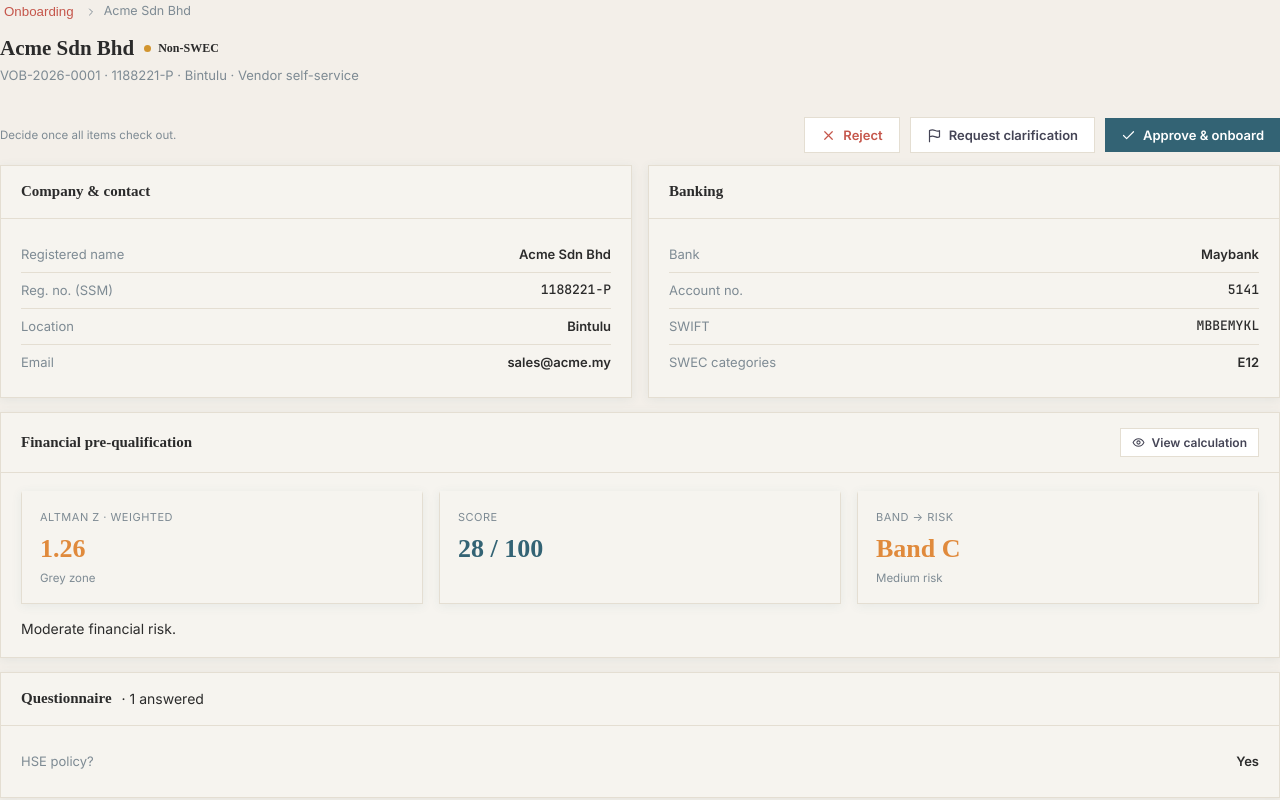
Test: Onboarding queue + review (Slice D) › review shows the financial band + calc drawer; approve promotes and shows the vendor code
Expected: the heading "Financial pre-qualification" is shown, [21,432,192,454]
Expected: the text "Band C" is shown, [876,534,960,563]
// calc drawer
Click the button "View calculation".
click(1189, 443)  # box [1120,428,1259,457]
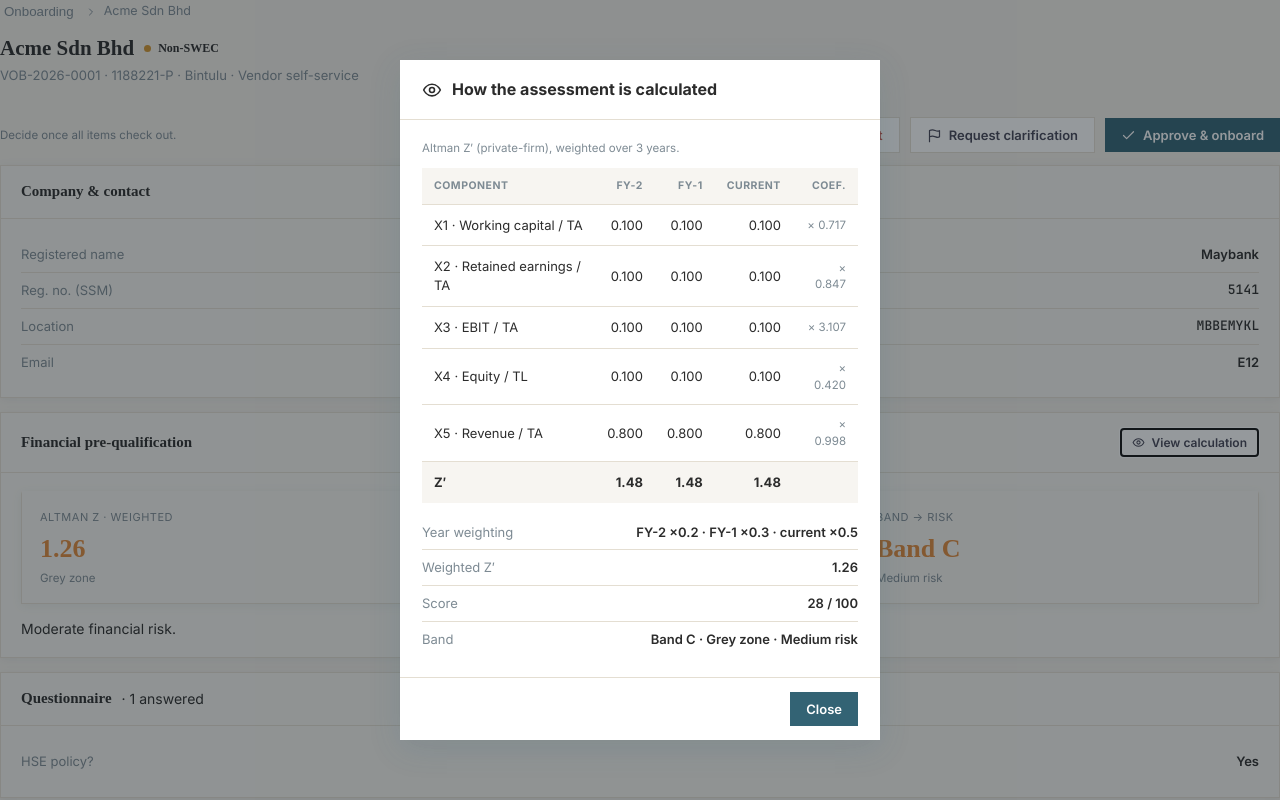
Expected: the text "X1 · Working capital / TA" is shown, [422,204,595,246]
Click the button "Close".
click(824, 709)  # box [790,692,858,726]
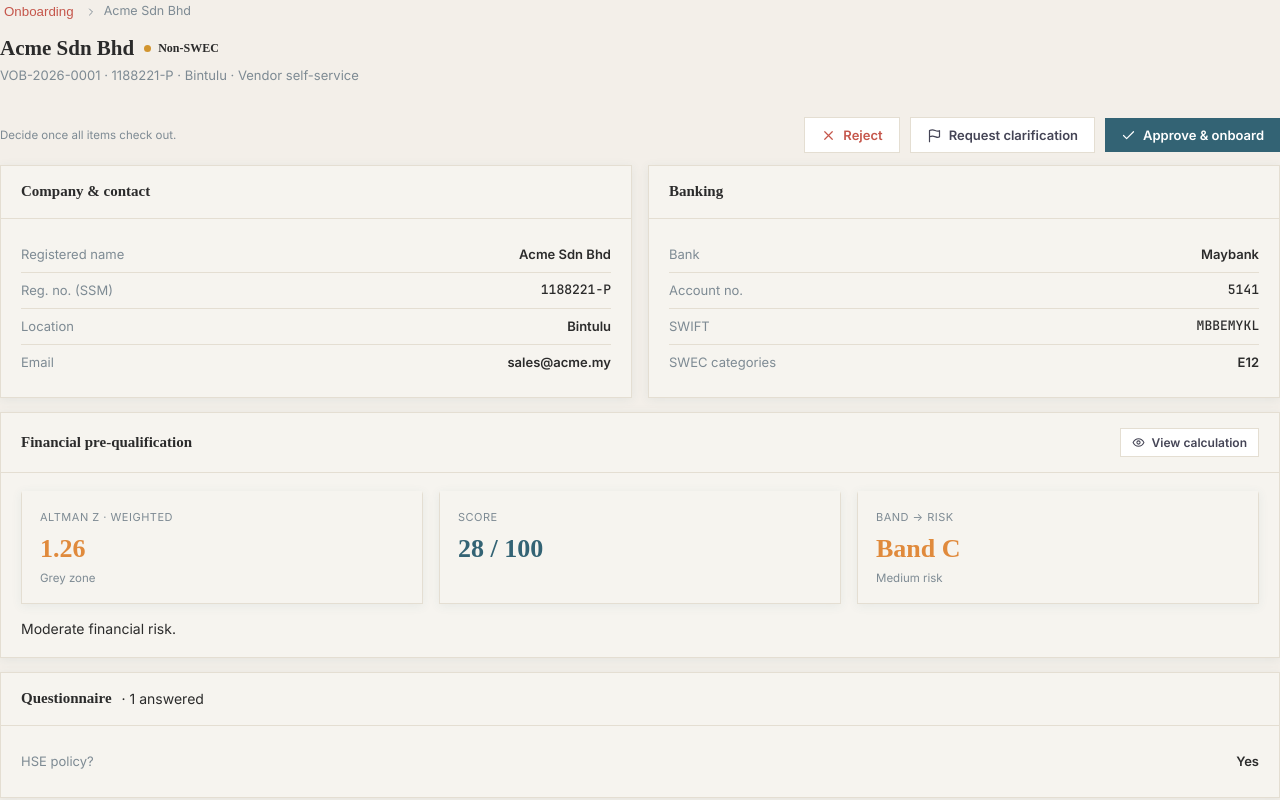
Click the button "Approve & onboard".
click(1192, 135)  # box [1105,118,1279,152]
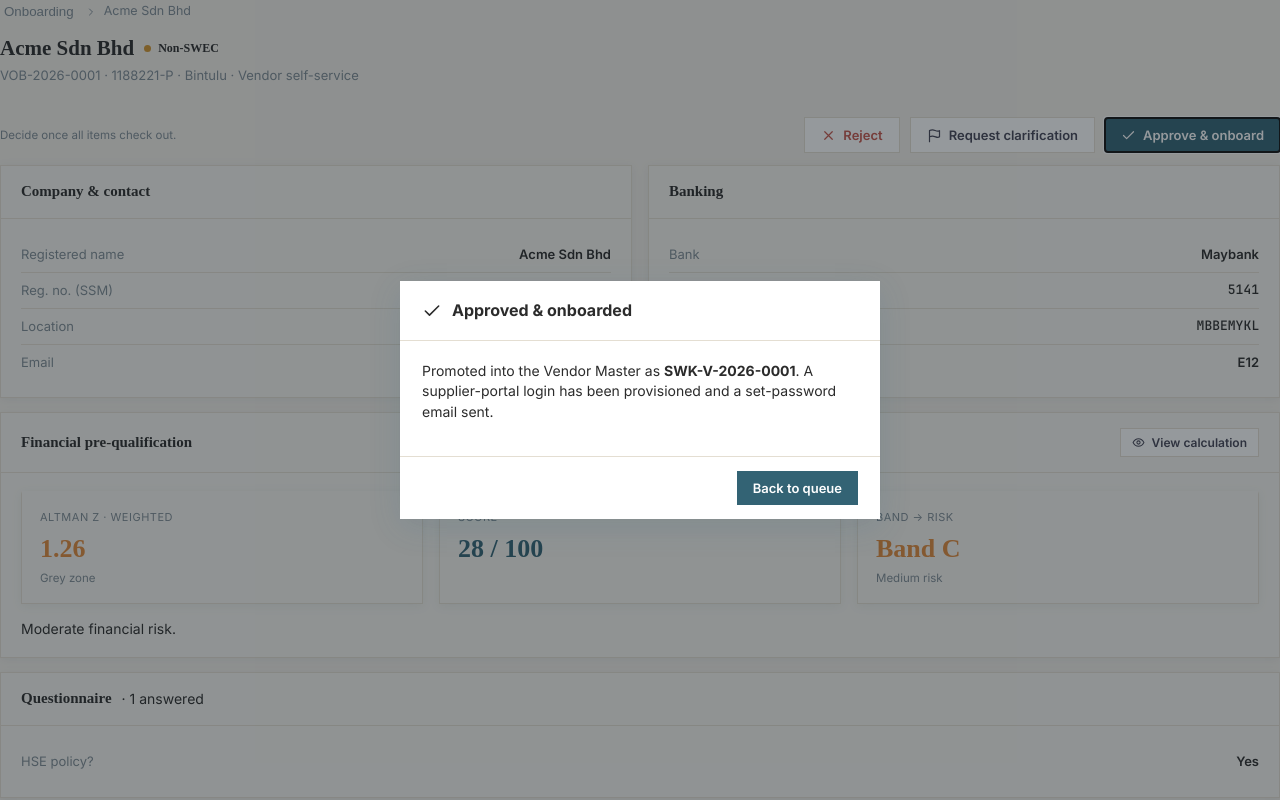
Expected: the heading "Approved & onboarded" is shown, [452,299,632,322]
Expected: the text "SWK-V-2026-0001" is shown, [664,362,796,379]
